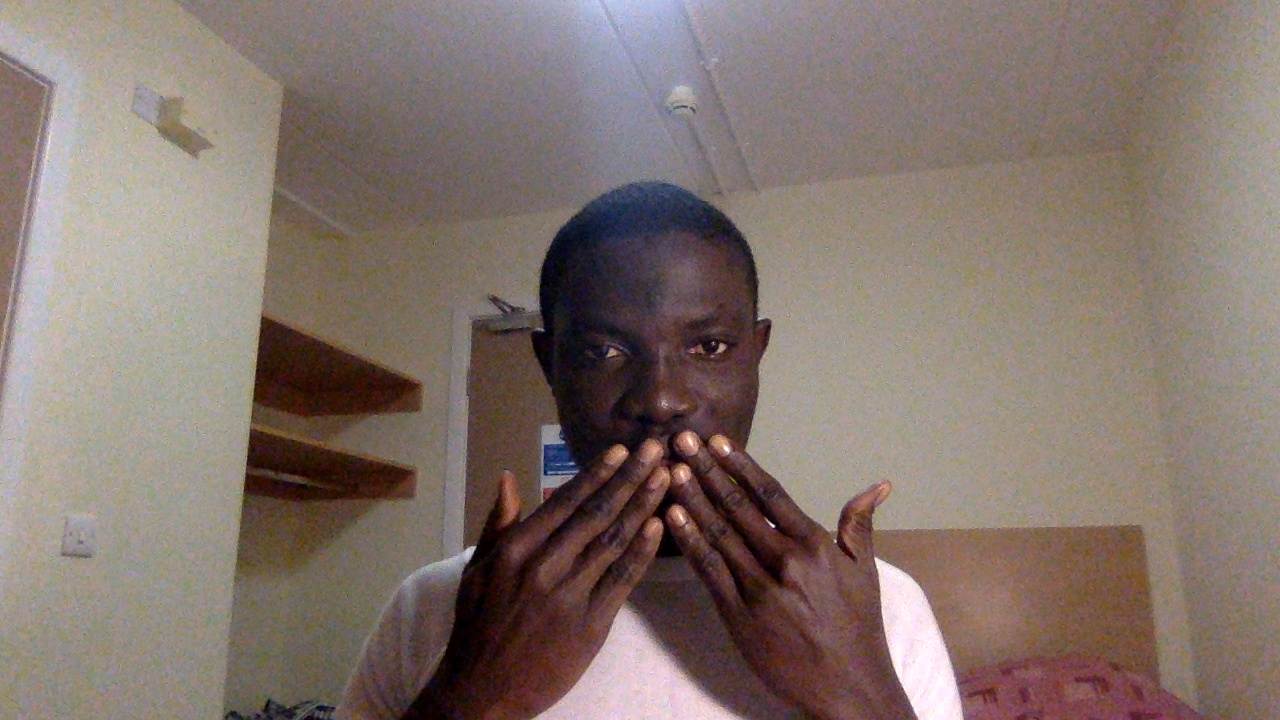Thank You: (433, 410, 966, 720)
